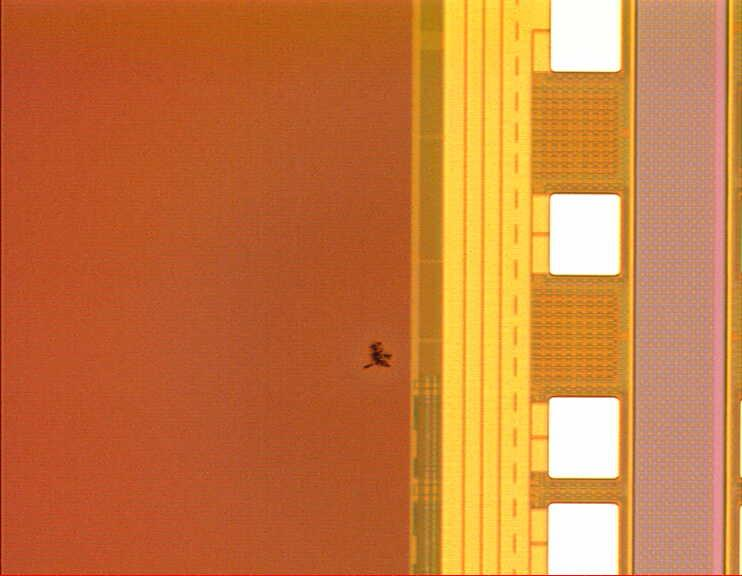PIQ PARTICLE: (356, 336, 396, 376)
